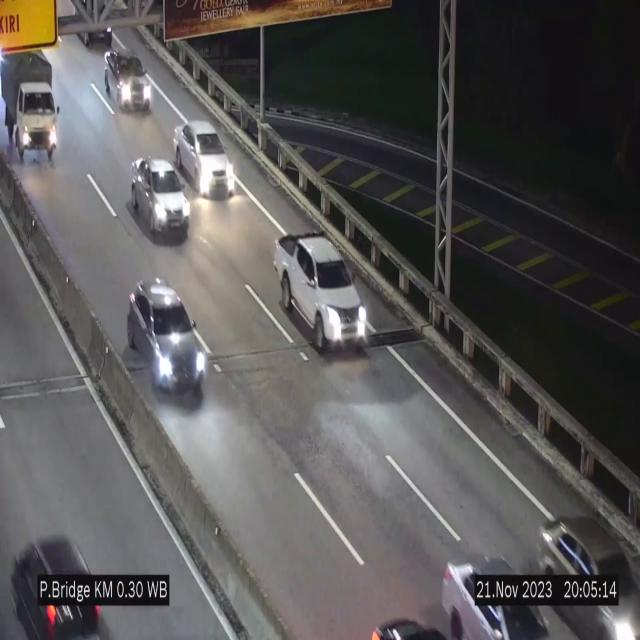Car: (275, 233, 367, 351), (127, 278, 208, 393), (1, 49, 62, 164), (130, 159, 190, 242), (173, 120, 235, 198), (104, 47, 154, 117)
